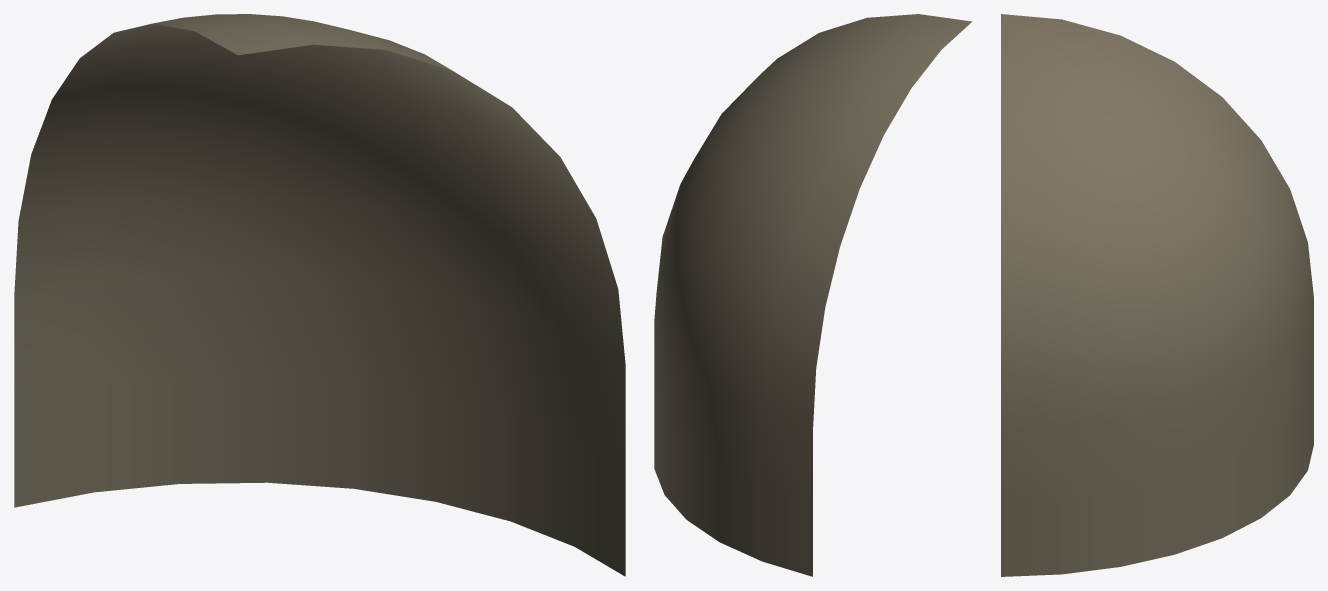
The model's file is SM_roofpiece_02.fbx.
3 views of the same model, side by side, from view 1: azimuth 30°, elevation 25°; view 2: azimuth 150°, elevation 25°; view 3: azimuth 270°, elevation 25° (orthographic). The views are drawn at different scales.
Visible parts, largest first — view 1: roofpiece_02; view 2: roofpiece_02; view 3: roofpiece_02.
Part boxes in pixels (box(x1,y1,x2,y2)): roofpiece_02: box(14, 14, 625, 576); roofpiece_02: box(654, 14, 971, 576); roofpiece_02: box(1001, 14, 1313, 576).
Size of the model in its own units: 115 by 175 by 115.
